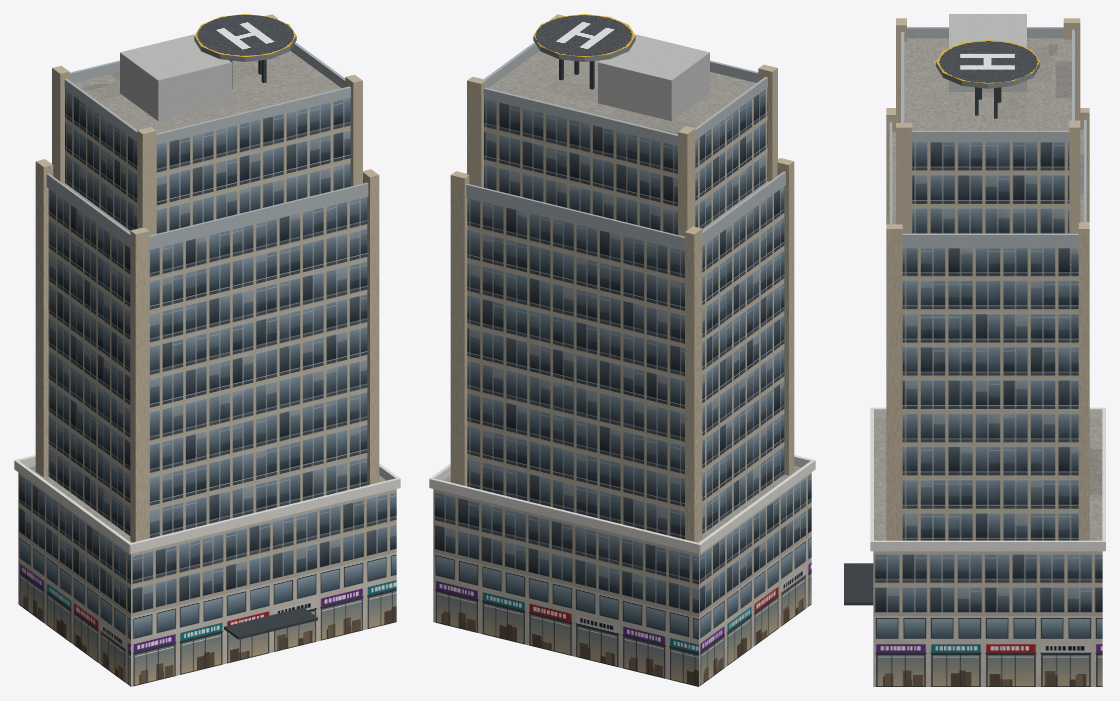
Rendered from OW_CaoOc_VP_KhungDa_64.fbx.
3 views of the same model, side by side, from view 1: azimuth 30°, elevation 25°; view 2: azimuth 150°, elevation 25°; view 3: azimuth 270°, elevation 25° (orthographic).
Visible parts, largest first — view 1: OW_CaoOc_VP_KhungDa_64_LOD0; view 2: OW_CaoOc_VP_KhungDa_64_LOD0; view 3: OW_CaoOc_VP_KhungDa_64_LOD0.
Boxes of the visible parts, x1,y1,x2,y2 form: OW_CaoOc_VP_KhungDa_64_LOD0: (14, 14, 400, 686); OW_CaoOc_VP_KhungDa_64_LOD0: (429, 14, 815, 686); OW_CaoOc_VP_KhungDa_64_LOD0: (844, 14, 1105, 686).
Size of what is drawn, in the model's own units: 34.7 by 69.6 by 28.55.
